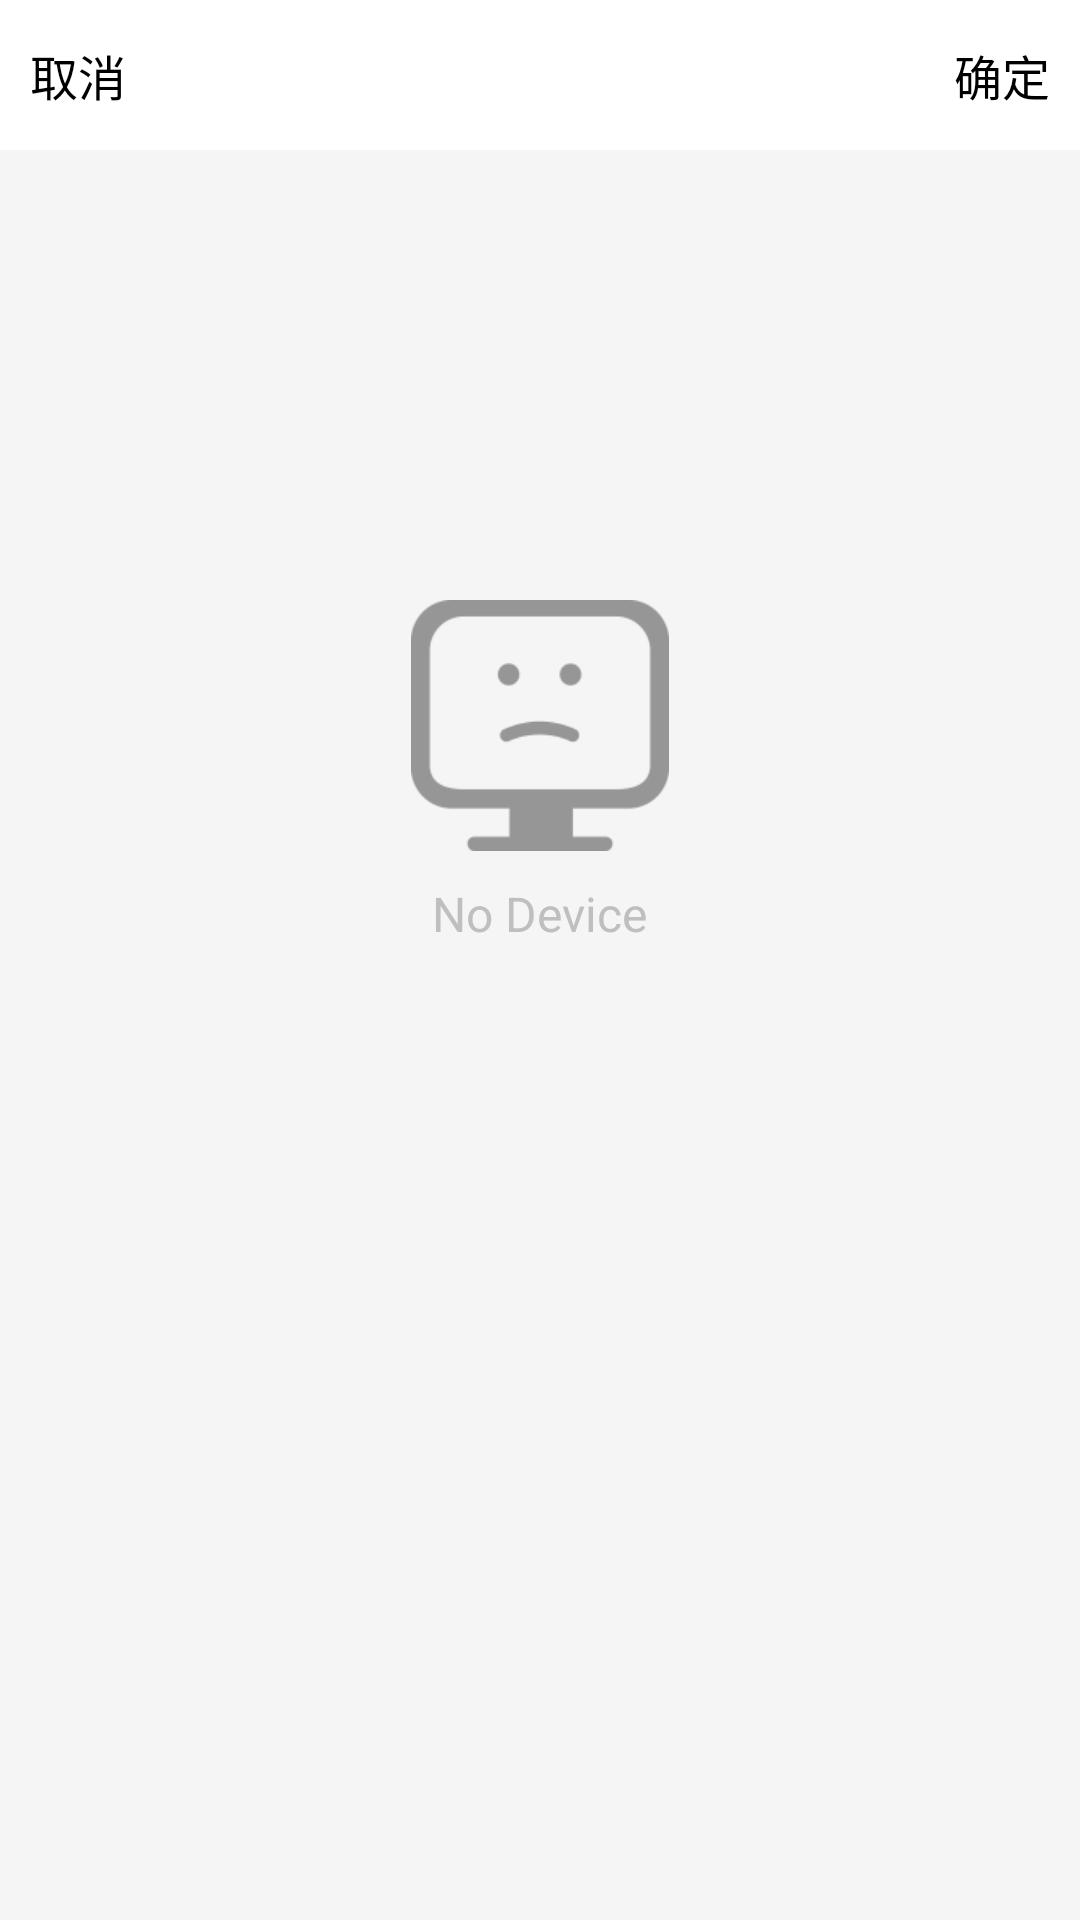

Icon click points for this 1080×1920 phone screenshot, format (x=x, y=y):
no data: (x=540, y=725)
